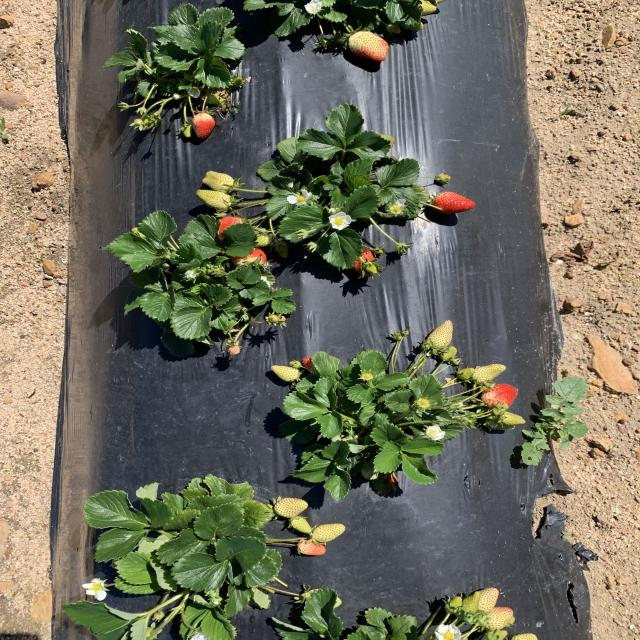unripe: (429, 192, 476, 217), (230, 243, 268, 270), (483, 383, 519, 411), (347, 247, 380, 276), (214, 216, 246, 237), (189, 114, 215, 139)
